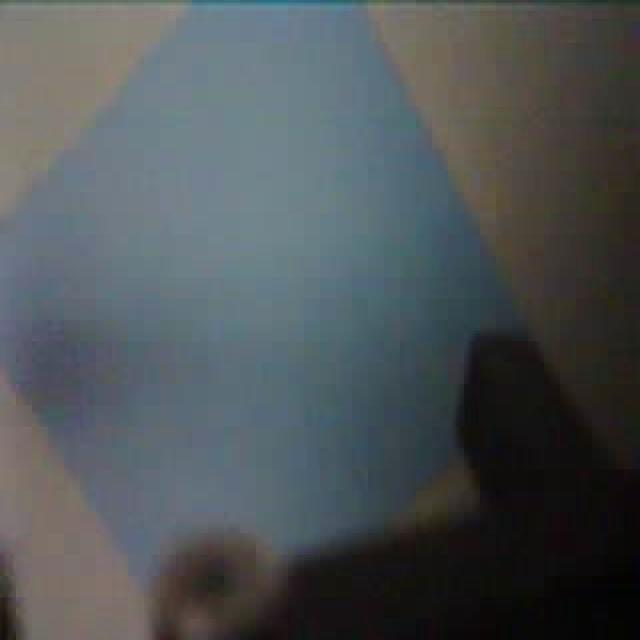blue_box: (11, 18, 532, 583)
